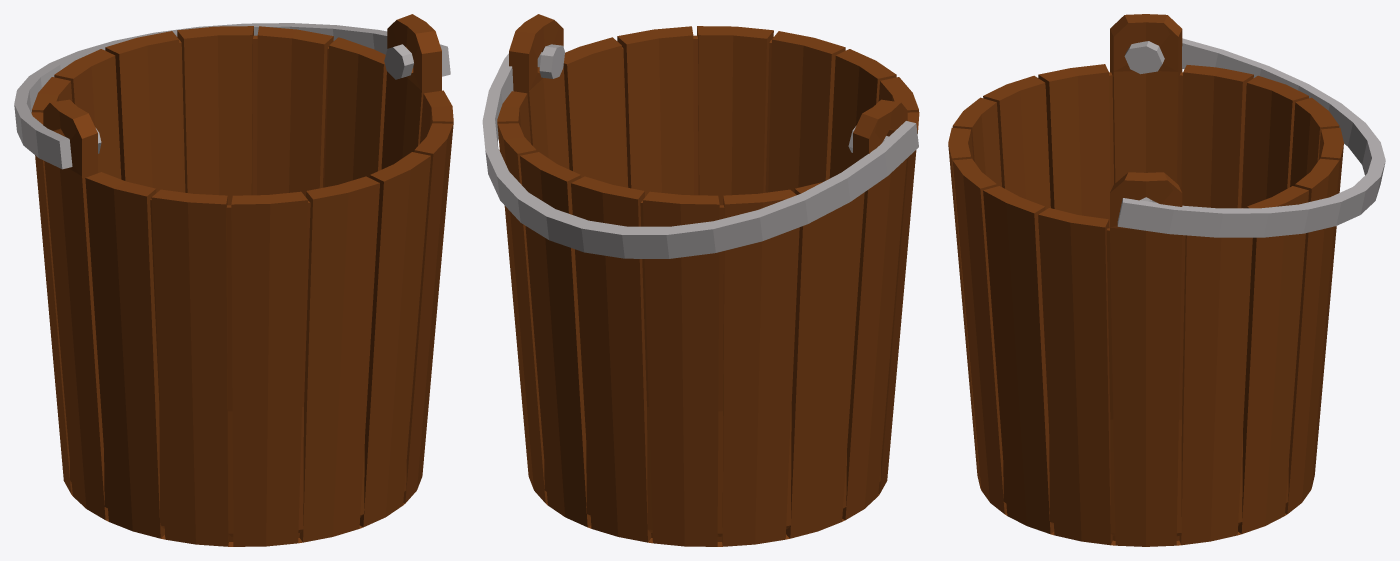
File: Balde.fbx
3 renders of one model, left to right at view 1: azimuth 30°, elevation 25°; view 2: azimuth 150°, elevation 25°; view 3: azimuth 270°, elevation 25°, orthographic. The views are drawn at different scales.
Parts seen in each view (by area): view 1: Circle, Circle.001; view 2: Circle, Circle.001; view 3: Circle, Circle.001.
Part boxes in pixels (<box>): Circle: <box>31,14,453,546</box>; Circle.001: <box>14,23,450,169</box>; Circle: <box>497,14,919,546</box>; Circle.001: <box>482,44,918,258</box>; Circle: <box>948,14,1343,546</box>; Circle.001: <box>1117,38,1385,237</box>.
Size of the model in its own units: 249 by 247 by 259.
